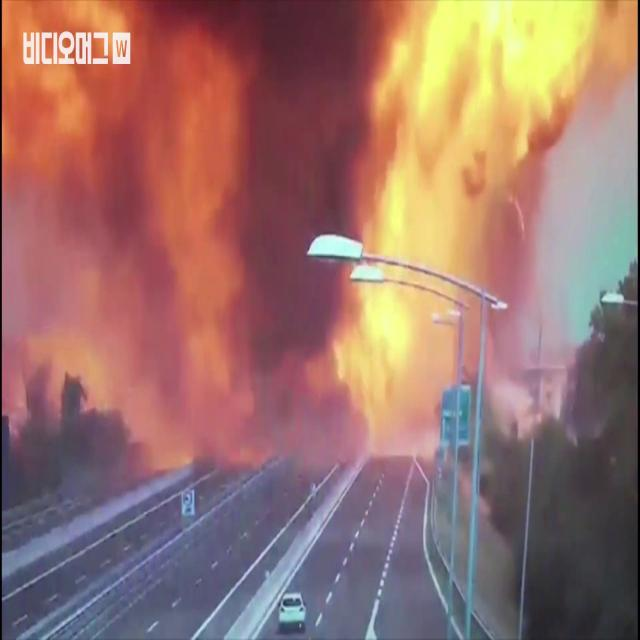explosion: (3, 9, 632, 524)
